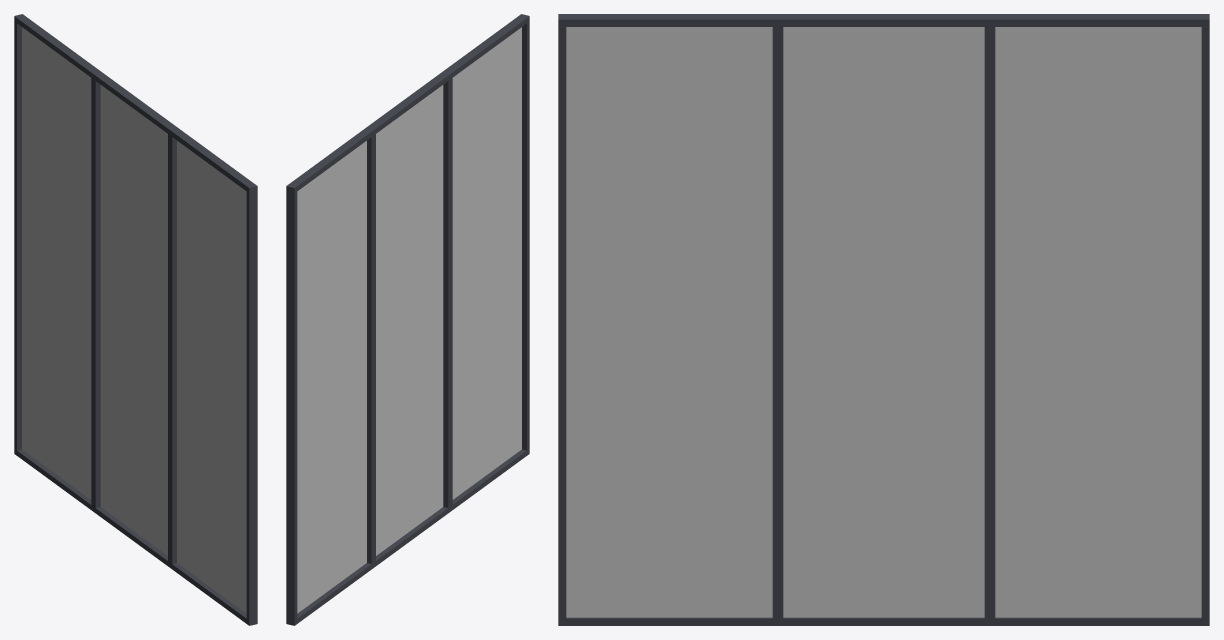
File: Nebbiolo_Sidewall_Polycarbonate_Grey_Right.glb
3 renders of one model, left to right at view 1: azimuth 30°, elevation 25°; view 2: azimuth 150°, elevation 25°; view 3: azimuth 270°, elevation 25°, orthographic. The views are drawn at different scales.
Visible parts, largest first — view 1: sidewall_polycarbonate_grey_right_400_250; view 2: sidewall_polycarbonate_grey_right_400_250; view 3: sidewall_polycarbonate_grey_right_400_250.
Part boxes in pixels (<box>): sidewall_polycarbonate_grey_right_400_250: <box>14,14,257,625</box>; sidewall_polycarbonate_grey_right_400_250: <box>286,14,529,625</box>; sidewall_polycarbonate_grey_right_400_250: <box>558,14,1209,625</box>.
Size of the model in its own units: 0.0501 by 2.5 by 2.44.
Materials: 2 (1 with a texture image).
